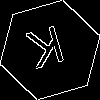K: (25, 25, 70, 78)
